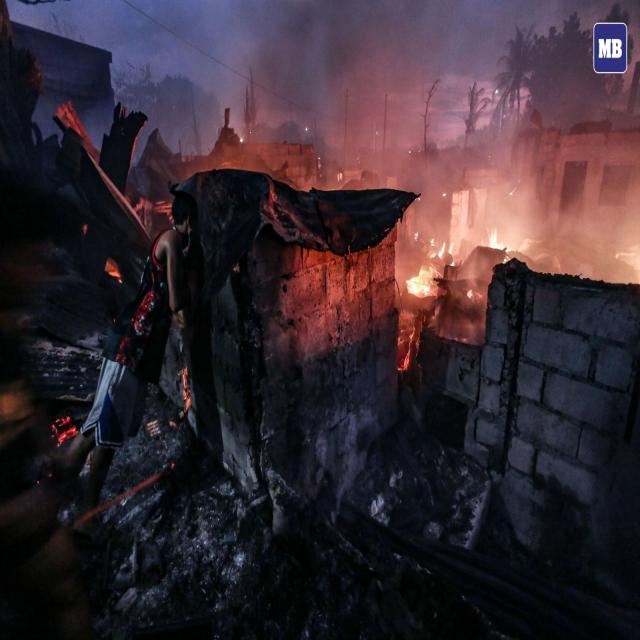Fire: (402, 250, 437, 299), (481, 228, 524, 256), (434, 239, 456, 267)
